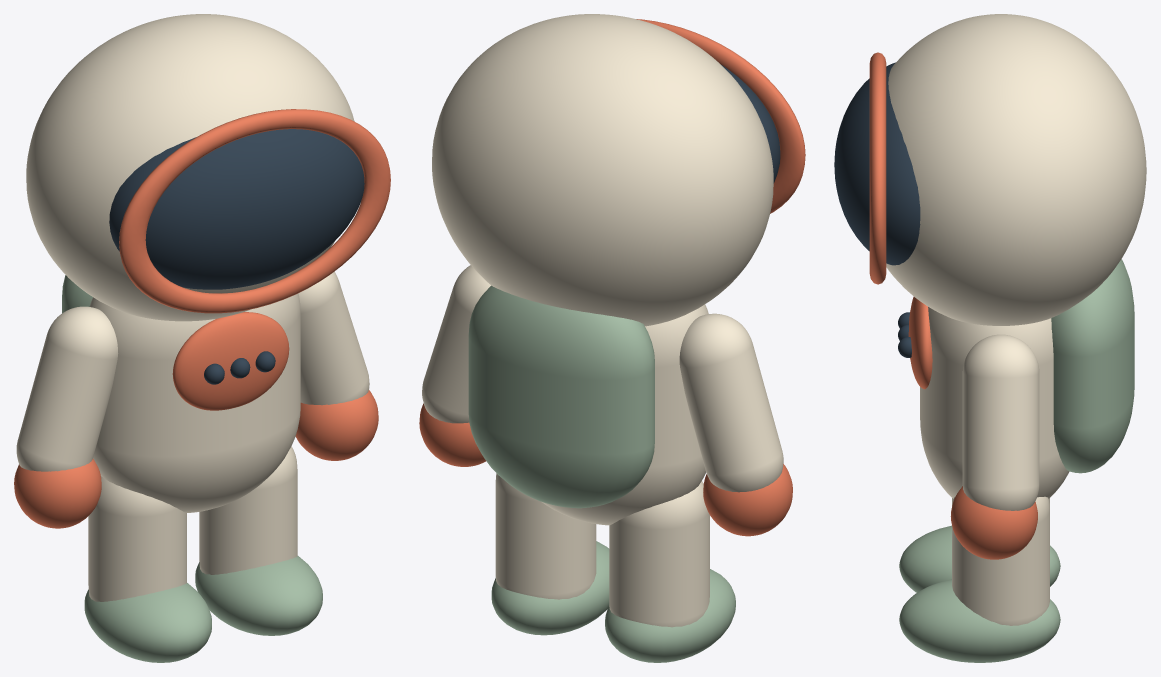
Rendered from atelier.glb.
The picture shows the model from 3 angles, left to right: view 1: azimuth 30°, elevation 25°; view 2: azimuth 150°, elevation 25°; view 3: azimuth 270°, elevation 25°; orthographic projection. The views are drawn at different scales.
Parts seen in each view (by area): view 1: helmet, visor, suit, arm (×2), leg (×2), helmet rim, boot (×2), glove (×2), control panel, pack; view 2: helmet, pack, leg (×2), arm (×2), boot (×2), suit, glove (×2), helmet rim, visor; view 3: helmet, pack, arm, suit, boot (×2), visor, leg, helmet rim, glove, control panel.
Part boxes in pixels (bbox=[...]): helmet: bbox=[26, 14, 354, 321]; visor: bbox=[109, 129, 364, 289]; suit: bbox=[89, 293, 300, 512]; arm (×2): bbox=[16, 271, 369, 471]; leg (×2): bbox=[88, 446, 297, 601]; helmet rim: bbox=[119, 109, 390, 313]; boot (×2): bbox=[84, 556, 322, 662]; glove (×2): bbox=[14, 390, 378, 528]; control panel: bbox=[172, 312, 289, 410]; pack: bbox=[62, 275, 92, 313]; helmet: bbox=[432, 14, 773, 326]; pack: bbox=[468, 285, 654, 508]; leg (×2): bbox=[495, 473, 709, 627]; arm (×2): bbox=[422, 265, 783, 492]; boot (×2): bbox=[491, 541, 735, 662]; suit: bbox=[542, 304, 708, 525]; glove (×2): bbox=[419, 403, 792, 536]; helmet rim: bbox=[636, 19, 805, 213]; visor: bbox=[721, 65, 780, 183]; helmet: bbox=[886, 14, 1146, 325]; pack: bbox=[1051, 259, 1134, 473]; arm: bbox=[962, 334, 1039, 510]; suit: bbox=[920, 307, 1069, 498]; boot (×2): bbox=[899, 525, 1060, 662]; visor: bbox=[834, 62, 920, 265]; leg: bbox=[952, 496, 1049, 625]; helmet rim: bbox=[869, 52, 886, 284]; glove: bbox=[950, 486, 1037, 559]; control panel: bbox=[908, 296, 932, 389].
Bounding box in the file's own units: 3.06 × 4.98 × 2.36.
Materials: 17 (17 with a texture image).
